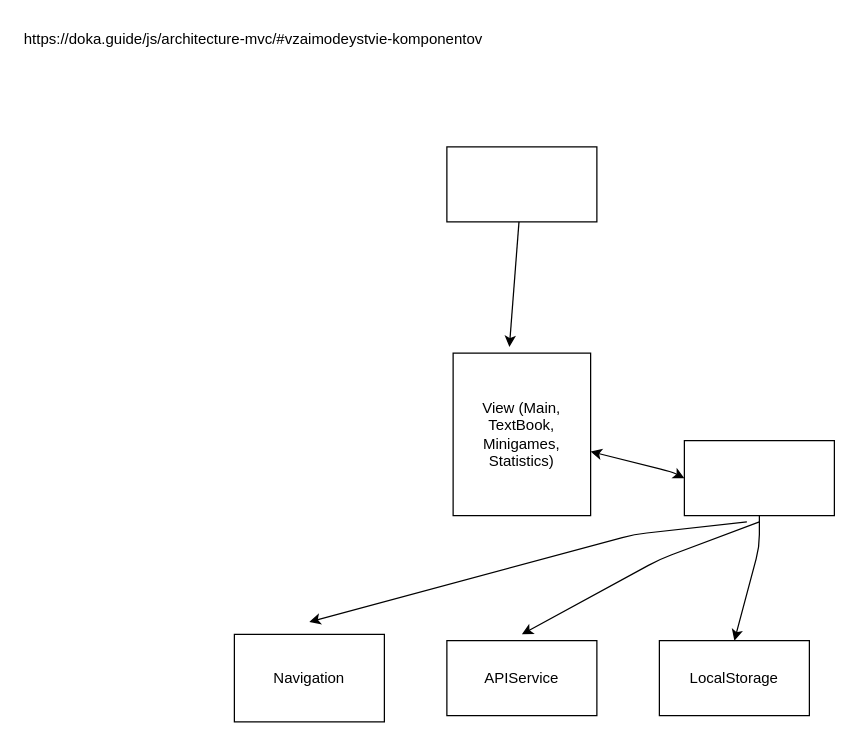
This 856x744 diagram has some shape labels left out. The box of each missing label's shape, as (x1, y1, x2, y2) in pixels:
App: (446, 146, 597, 222)
Services (Main, TExtBook, Minigames, Statistics: (683, 439, 834, 516)
